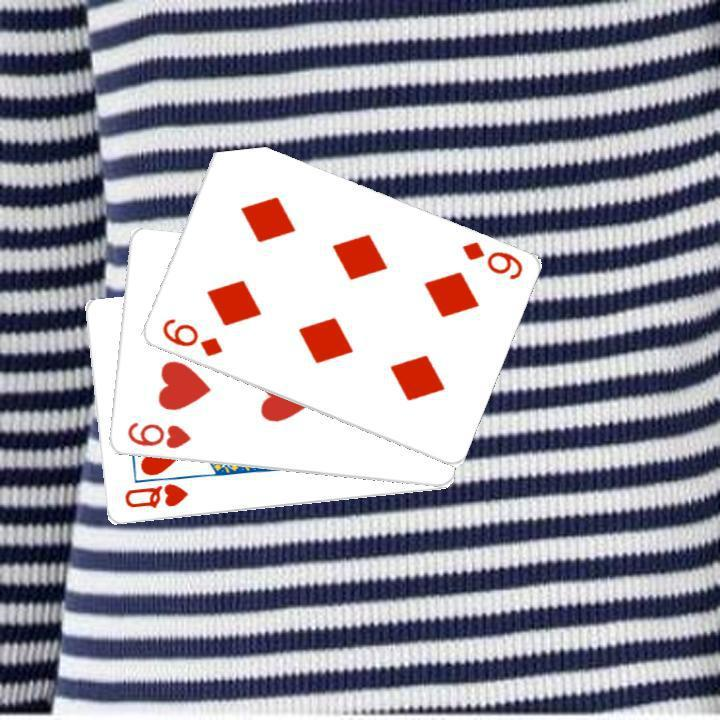6: (157, 314, 224, 359), (457, 237, 524, 282), (122, 418, 192, 452)
Q: (119, 479, 190, 511)
